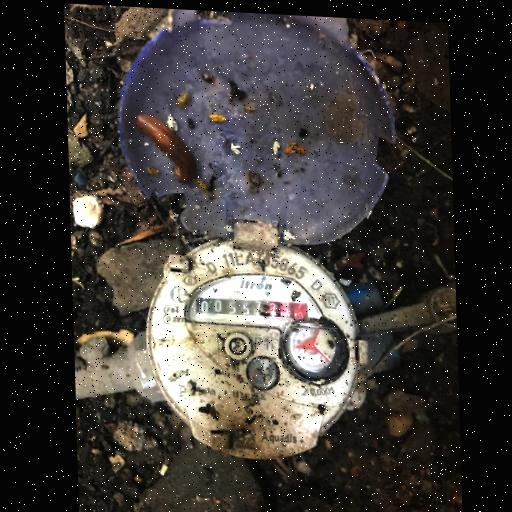0: (197, 296, 212, 315), (212, 298, 226, 316)
5: (225, 299, 239, 316), (239, 300, 253, 317)
6: (278, 301, 292, 319)
7: (253, 300, 265, 318)
9: (292, 303, 308, 322), (267, 301, 279, 319)
border_water_meter_number: (193, 294, 310, 323)
